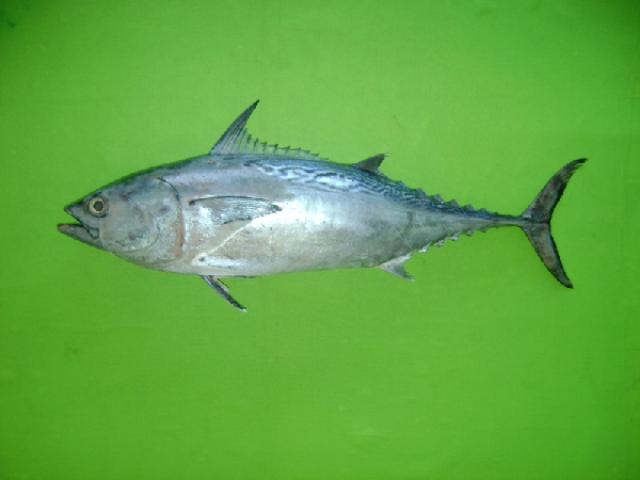Mulut: (52, 190, 104, 256)
Sirip Anal: (373, 238, 431, 294)
Sirip Dada: (193, 190, 289, 230)
Sirip Ekor: (516, 149, 602, 297)
Sirip Perut: (197, 264, 263, 320)
Sirip Punggung: (210, 96, 394, 178)
